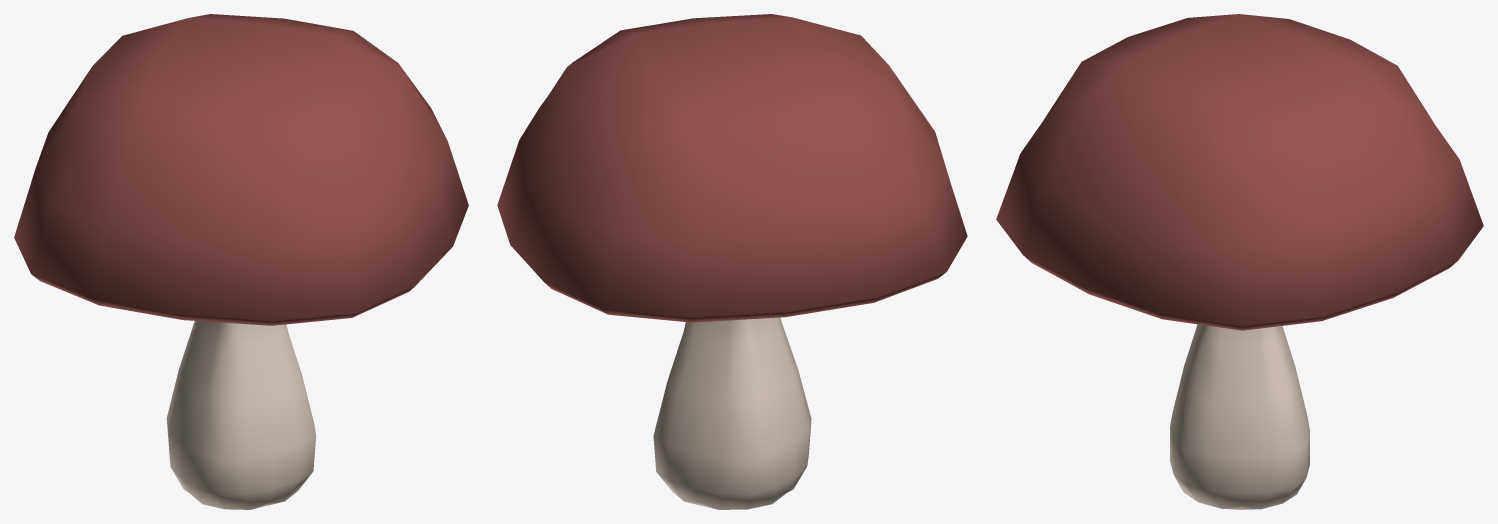
The model's file is Mushroom_2.fbx.
3 renders of one model, left to right at view 1: azimuth 30°, elevation 25°; view 2: azimuth 150°, elevation 25°; view 3: azimuth 270°, elevation 25°, orthographic.
Visible parts, largest first — view 1: Mush.004; view 2: Mush.004; view 3: Mush.004.
Boxes of the visible parts, x1,y1,x2,y2 form: Mush.004: (14, 14, 468, 509); Mush.004: (497, 14, 967, 509); Mush.004: (996, 14, 1483, 509).
Size of the model in its own units: 881 by 857 by 880.
